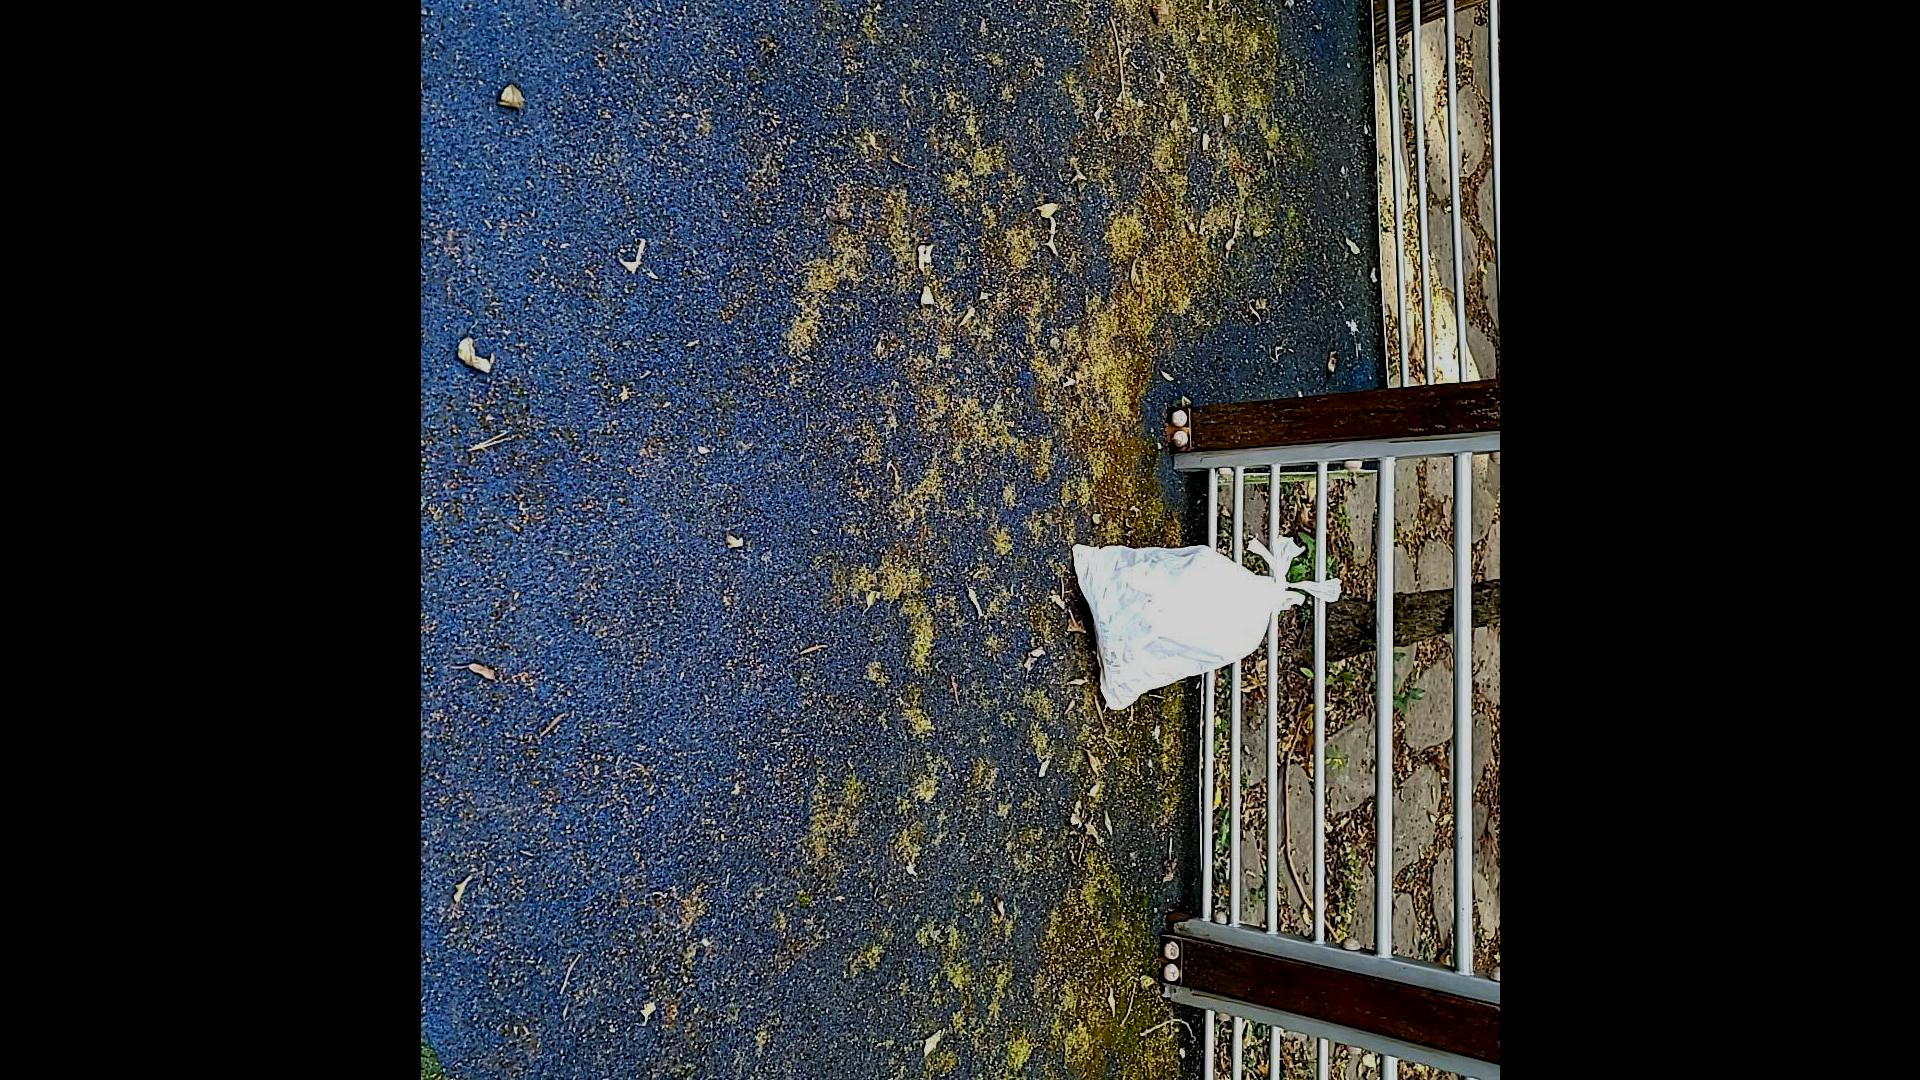white_bag: (1065, 514, 1352, 723)
